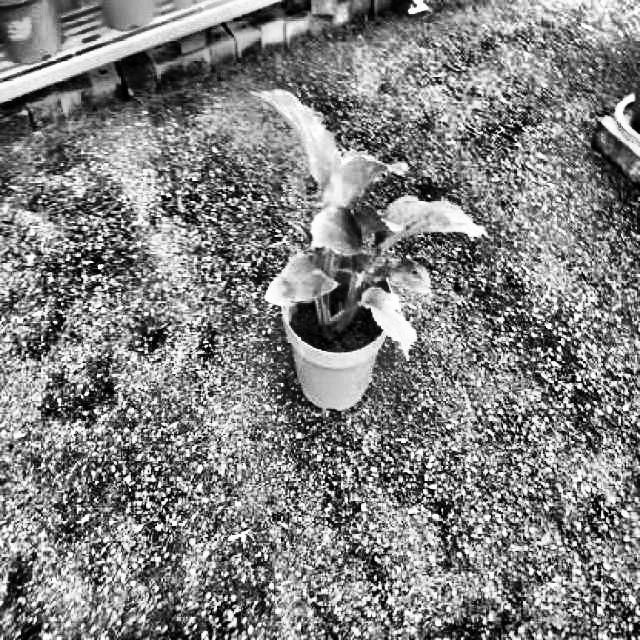plants: (251, 87, 491, 356)
